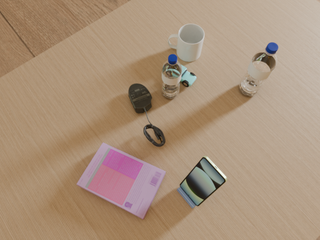book: (77, 143, 165, 219)
bottle: (239, 42, 278, 96), (162, 54, 182, 99)
cup: (168, 24, 204, 62)
mouse: (129, 84, 152, 113)
phone: (180, 156, 227, 206)
toy_car: (180, 65, 196, 87)
